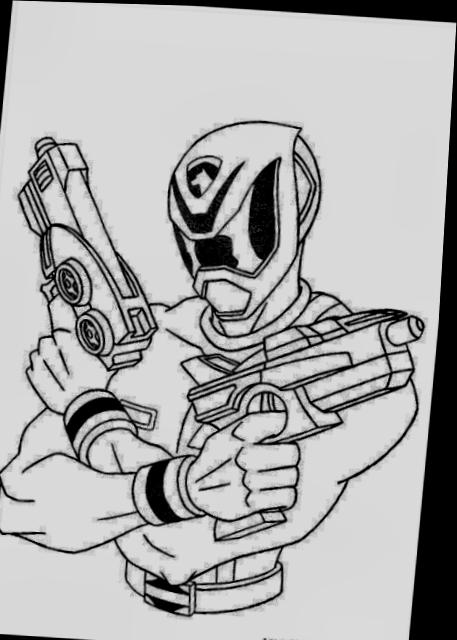pistol: (176, 291, 432, 553), (0, 133, 178, 381)
